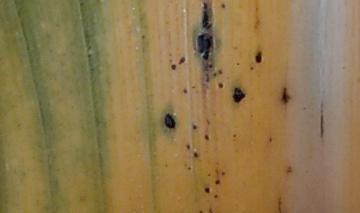tarspot: (196, 33, 212, 59), (200, 1, 212, 30), (234, 87, 245, 104), (165, 114, 176, 128), (281, 87, 290, 104), (255, 52, 262, 63), (170, 62, 177, 70), (178, 56, 185, 64), (204, 186, 211, 194), (267, 135, 274, 143), (218, 82, 225, 89), (204, 119, 211, 126), (191, 124, 198, 130), (287, 166, 293, 173), (206, 73, 210, 83), (203, 134, 209, 140), (221, 3, 227, 9), (215, 179, 221, 185), (140, 33, 146, 39), (192, 152, 199, 157), (185, 143, 190, 149), (218, 69, 223, 75), (182, 88, 187, 94), (187, 165, 192, 171), (249, 66, 255, 71), (232, 132, 237, 138), (206, 171, 211, 177), (214, 193, 218, 200), (221, 171, 226, 176), (209, 64, 213, 69), (208, 208, 212, 213), (213, 72, 217, 77), (191, 85, 196, 89), (199, 210, 204, 213), (236, 63, 241, 66)
